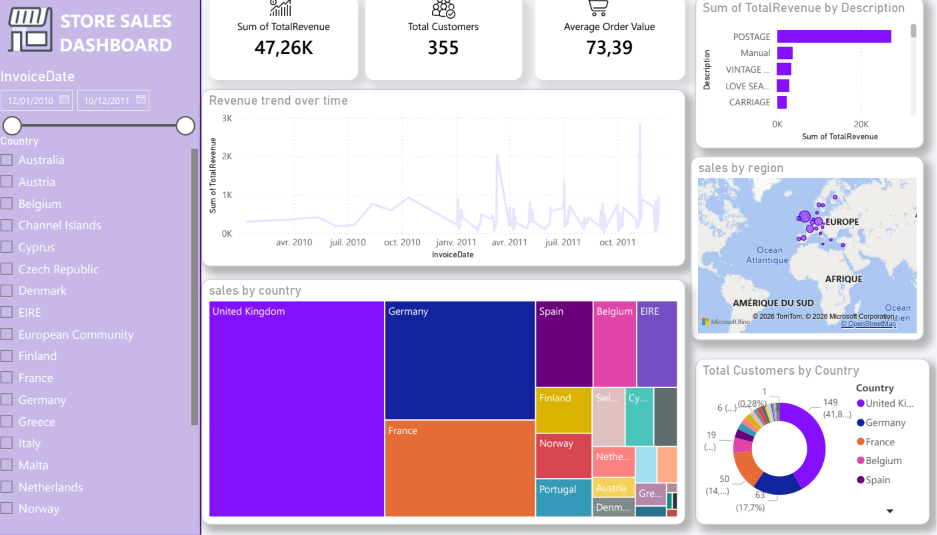

The page's visual inventory and layout, read from the dashboard file:
{"tool":"powerbi","page":{"name":"Page 1","canvas":[1280,720],"ordinal":0},"visuals":[{"type":"shape","box":[24.2,0,280.1,719.2],"z":0},{"type":"lineChart","title":"Revenue trend over time ","fields":{"Y":["Sum(Online_Retail.TotalRevenue)"],"Category":["Online_Retail.InvoiceDate"]},"box":[304.4,124.2,643.5,236.2],"z":1000},{"type":"slicer","fields":{"Values":["Online_Retail.InvoiceDate"]},"box":[24.2,90.9,280.1,165],"z":2000},{"type":"cardVisual","fields":{"Data":["Sum(Online_Retail.TotalRevenue)"]},"box":[315,0,198.4,112.1],"z":3000},{"type":"barChart","fields":{"Category":["Online_Retail.Description"],"Y":["Sum(Online_Retail.TotalRevenue)"]},"box":[961.5,0,304.4,202.9],"z":4000},{"type":"map","title":"sales by region","fields":{"Category":["Online_Retail.Country"],"Size":["Sum(Online_Retail.TotalRevenue)"]},"box":[955.5,213.5,310.4,245.3],"z":5000},{"type":"cardVisual","fields":{"Data":["Online_Retail.Total Customers"]},"box":[522.4,0,209,112.1],"z":6000},{"type":"cardVisual","fields":{"Data":["Online_Retail.Average Order Value"]},"box":[748,0,199.9,112.1],"z":7000},{"type":"slicer","fields":{"Values":["Online_Retail.Country"]},"box":[24.2,180.2,280.1,523.9],"z":8000},{"type":"donutChart","fields":{"Category":["Online_Retail.Country"],"Y":["Online_Retail.Total Customers"]},"box":[961.5,483,311.9,221.1],"z":9000},{"type":"treemap","title":"sales  by country","fields":{"Values":["Sum(Online_Retail.TotalRevenue)"],"Group":["Online_Retail.Country"]},"box":[304.4,377,643.5,327.1],"z":10000},{"type":"textbox","box":[77.2,10.6,227.1,80.3],"z":11000},{"type":"image","box":[330.1,0,157.5,30.3],"z":12000},{"type":"image","box":[581.5,0,89.3,30.3],"z":13000},{"type":"image","box":[782.8,0,96.9,30.3],"z":14000},{"type":"image","box":[43.9,15.1,65.1,59.1],"z":15000}]}

Visuals, with their boxes in screenshot pixels (x1, y1, x2, y2), scaled from the page's 1280x720 canvas onto the 937x535 screenshot:
shape: box(18, 0, 223, 534)
"Revenue trend over time " lineChart: box(223, 92, 694, 268)
slicer - Online_Retail.InvoiceDate: box(18, 68, 223, 190)
cardVisual - Sum(Online_Retail.TotalRevenue): box(231, 0, 376, 83)
barChart - Online_Retail.Description x Sum(Online_Retail.TotalRevenue): box(704, 0, 927, 151)
"sales by region" map: box(699, 159, 927, 341)
cardVisual - Online_Retail.Total Customers: box(382, 0, 535, 83)
cardVisual - Online_Retail.Average Order Value: box(548, 0, 694, 83)
slicer - Online_Retail.Country: box(18, 134, 223, 523)
donutChart - Online_Retail.Country x Online_Retail.Total Customers: box(704, 359, 932, 523)
"sales  by country" treemap: box(223, 280, 694, 523)
textbox: box(57, 8, 223, 68)
image: box(242, 0, 357, 23)
image: box(426, 0, 491, 23)
image: box(573, 0, 644, 23)
image: box(32, 11, 80, 55)
